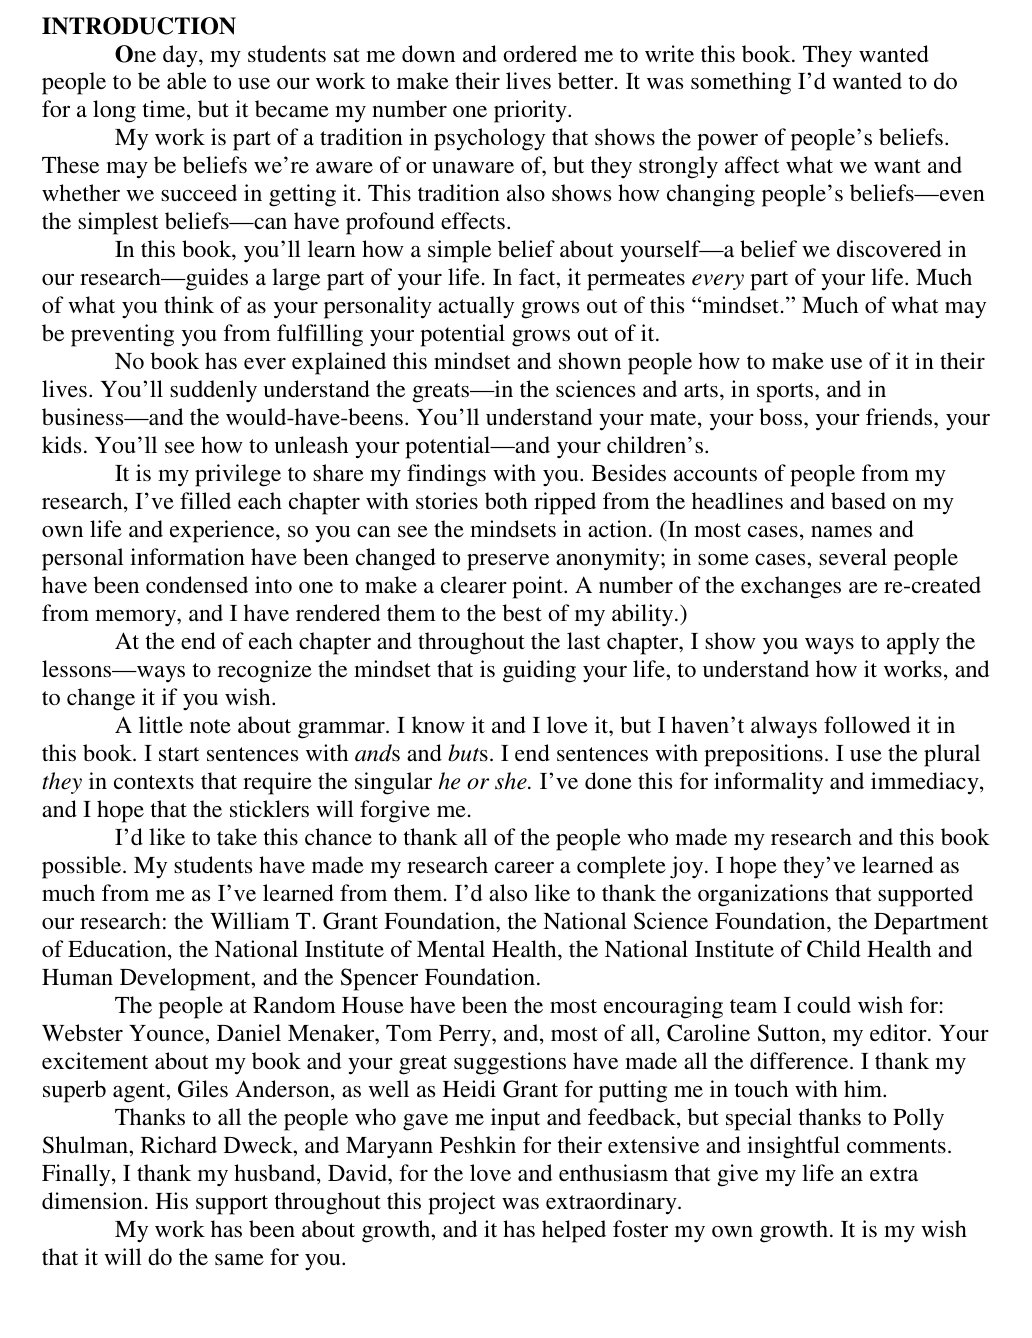latin: (38, 826, 993, 995), (41, 462, 986, 630), (38, 345, 998, 462), (38, 706, 984, 822), (38, 993, 990, 1104), (41, 1104, 954, 1219), (39, 127, 986, 236), (36, 236, 988, 344), (41, 42, 958, 125), (40, 631, 993, 707), (36, 1219, 970, 1269), (41, 12, 236, 38)
